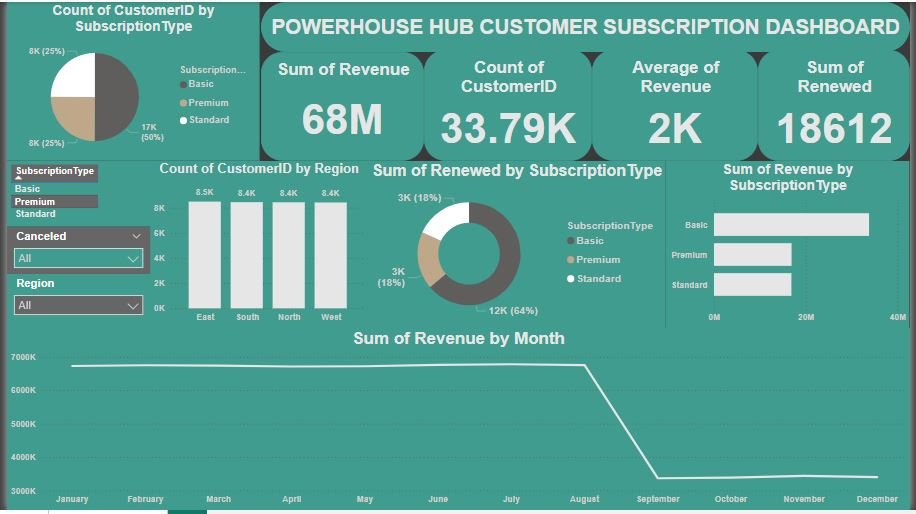

What the dashboard file says about the page in this screenshot:
{"tool":"powerbi","page":{"name":"CustomerData","canvas":[1280,720],"ordinal":1},"visuals":[{"type":"pieChart","fields":{"Category":["CustomerData.SubscriptionType"],"Y":["CountNonNull(CustomerData.CustomerID)"]},"box":[0,0,358.2,225.5],"z":0},{"type":"card","title":"Sum of Renewed","fields":{"Values":["Sum(CustomerData.Renewed)"]},"box":[1064.5,68.5,215.5,157],"z":1000},{"type":"card","title":"Sum of Revenue","fields":{"Values":["Sum(CustomerData.Revenue)"]},"box":[359.6,71.3,231.2,154.1],"z":2000},{"type":"columnChart","fields":{"Category":["CustomerData.Region"],"Y":["CountNonNull(CustomerData.CustomerID)"]},"box":[202.6,225.5,309.7,236.9],"z":3000},{"type":"barChart","fields":{"Category":["CustomerData.SubscriptionType"],"Y":["Sum(CustomerData.Revenue)"]},"box":[934.7,225.5,345.3,236.9],"z":4000},{"type":"donutChart","fields":{"Category":["CustomerData.SubscriptionType"],"Y":["Sum(CustomerData.Renewed)"]},"box":[512.3,225.5,422.4,236.9],"z":5000},{"type":"lineChart","fields":{"Y":["Sum(CustomerData.Revenue)"],"Category":["CustomerData.SubscriptionStart.Variation.Date Hierarchy.Month"]},"box":[0,462.3,1280,258.3],"z":6000},{"type":"card","title":"Average of Revenue","fields":{"Values":["Avg(CustomerData.Revenue)"]},"box":[829.1,68.5,235.5,157],"z":7000},{"type":"card","title":"Count of CustomerID","fields":{"Values":["CountNonNull(CustomerData.CustomerID)"]},"box":[590.8,68.5,238.3,157],"z":7001},{"type":"shape","box":[360,0,919.8,70.9],"z":7002},{"type":"tableEx","fields":{"Values":["CustomerData.SubscriptionType"]},"box":[0,225.5,202.6,92.8],"z":7003},{"type":"slicer","fields":{"Values":["CustomerData.Canceled"]},"box":[0,318.2,202.6,67.1],"z":7004},{"type":"slicer","fields":{"Values":["CustomerData.Region"]},"box":[0,385.3,202.6,77.1],"z":7005}]}

Visuals, with their boxes in screenshot pixels (x1, y1, x2, y2), scaled from the page's 1280x720 canvas onto the 916x514 screenshot:
pieChart - CustomerData.SubscriptionType x CountNonNull(CustomerData.CustomerID): box(0, 0, 256, 161)
"Sum of Renewed" card: box(762, 49, 915, 161)
"Sum of Revenue" card: box(257, 51, 423, 161)
columnChart - CustomerData.Region x CountNonNull(CustomerData.CustomerID): box(145, 161, 367, 330)
barChart - CustomerData.SubscriptionType x Sum(CustomerData.Revenue): box(669, 161, 915, 330)
donutChart - CustomerData.SubscriptionType x Sum(CustomerData.Renewed): box(367, 161, 669, 330)
lineChart - Sum(CustomerData.Revenue) x CustomerData.SubscriptionStart.Variation.Date Hierarchy.Month: box(0, 330, 915, 513)
"Average of Revenue" card: box(593, 49, 762, 161)
"Count of CustomerID" card: box(423, 49, 593, 161)
shape: box(258, 0, 915, 51)
tableEx - CustomerData.SubscriptionType: box(0, 161, 145, 227)
slicer - CustomerData.Canceled: box(0, 227, 145, 275)
slicer - CustomerData.Region: box(0, 275, 145, 330)
